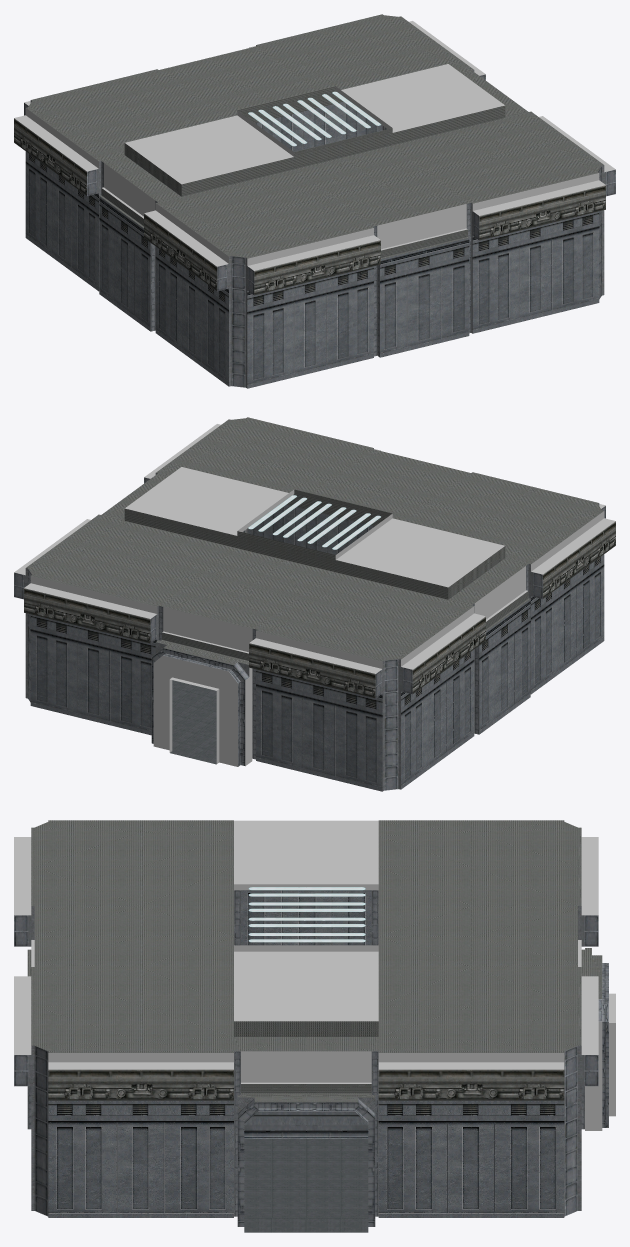
Rendered from poi_all_impl_bunker_warren_s01_r26_smallroom26_mesh_r26.fbx.
3 views of the same model, one above another, from view 1: azimuth 30°, elevation 25°; view 2: azimuth 150°, elevation 25°; view 3: azimuth 270°, elevation 25° (orthographic). The views are drawn at different scales.
Parts seen in each view (by area): view 1: mesh_node; view 2: mesh_node; view 3: mesh_node.
Part boxes in pixels (x1=…): mesh_node: x1=14, y1=14, x2=615, y2=388; mesh_node: x1=14, y1=417, x2=615, y2=791; mesh_node: x1=14, y1=820, x2=615, y2=1232.
Size of the model in its own units: 17.5 by 6 by 17.5.
